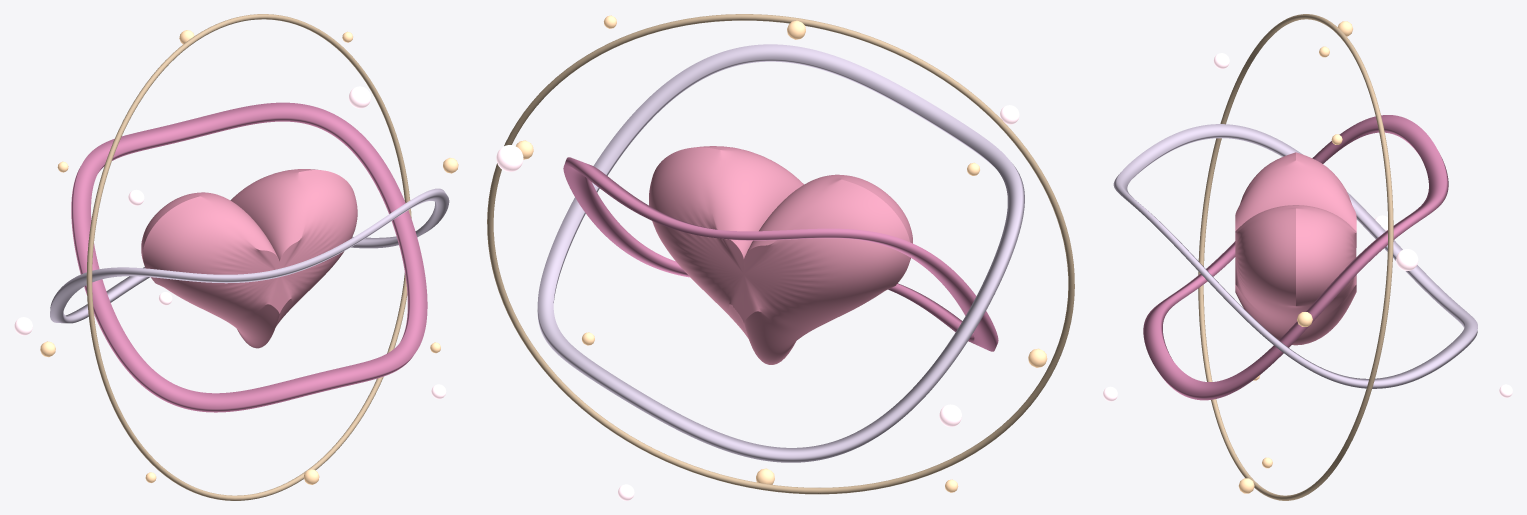
Rendered from lumi-hero.glb.
3 views of the same model, side by side, from view 1: azimuth 30°, elevation 25°; view 2: azimuth 150°, elevation 25°; view 3: azimuth 270°, elevation 25° (orthographic). The views are drawn at different scales.
Visible parts, largest first — view 1: HeartGem, RibbonRose, HaloRing, RibbonPearl; view 2: HeartGem, RibbonPearl, HaloRing, RibbonRose; view 3: HeartGem, RibbonRose, RibbonPearl, HaloRing.
Part boxes in pixels (bbox=[...]): HeartGem: bbox=[141, 169, 357, 348]; RibbonRose: bbox=[71, 102, 427, 412]; HaloRing: bbox=[86, 14, 411, 500]; RibbonPearl: bbox=[50, 188, 449, 323]; HeartGem: bbox=[649, 146, 912, 364]; RibbonPearl: bbox=[537, 44, 1024, 462]; HaloRing: bbox=[487, 14, 1074, 494]; RibbonRose: bbox=[563, 157, 998, 351]; HeartGem: bbox=[1235, 152, 1356, 345]; RibbonRose: bbox=[1143, 115, 1448, 400]; RibbonPearl: bbox=[1113, 124, 1477, 388]; HaloRing: bbox=[1198, 14, 1393, 500].
Bounding box in the file's own units: 3.96 × 3.88 × 3.32.
